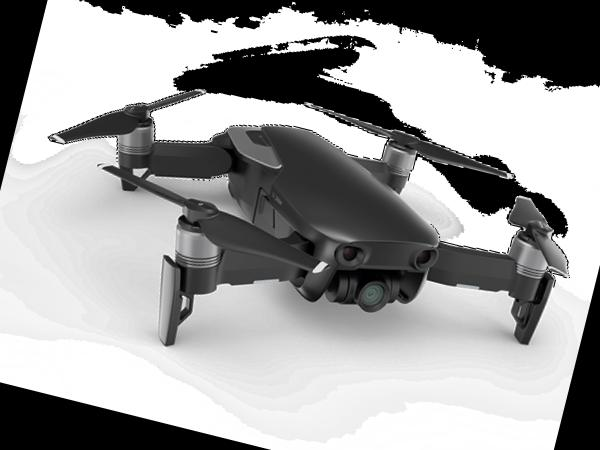drone: (11, 19, 600, 414)
